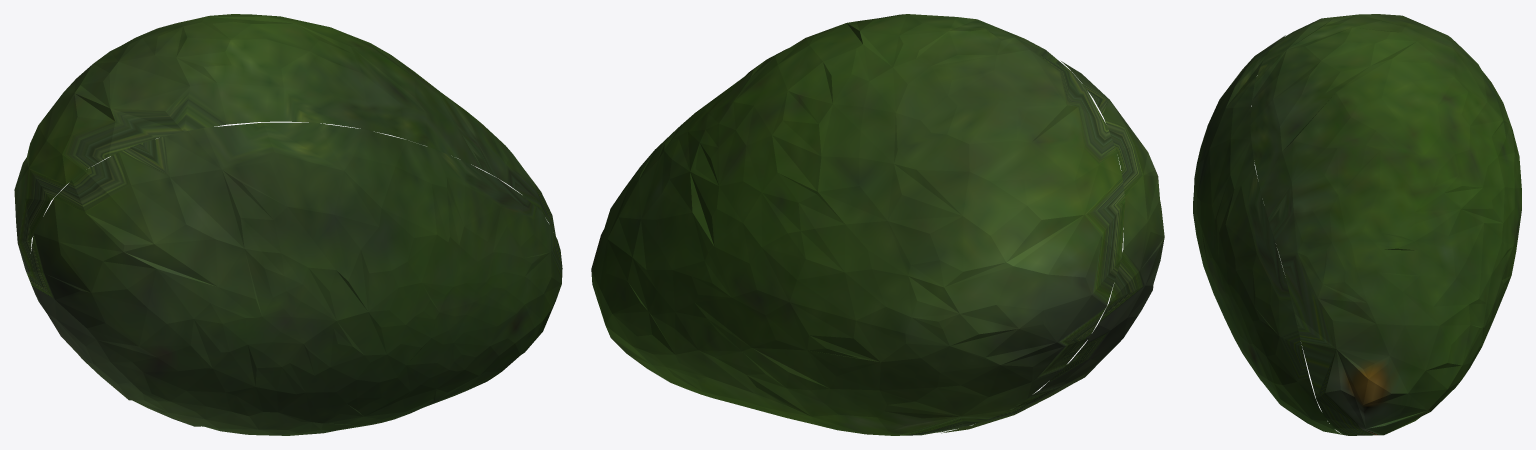
The model's file is food_produce_avocado_f01.glb.
3 views of the same model, side by side, from view 1: azimuth 30°, elevation 25°; view 2: azimuth 150°, elevation 25°; view 3: azimuth 270°, elevation 25° (orthographic). The views are drawn at different scales.
Visible parts, largest first — view 1: geometry_0; view 2: geometry_0; view 3: geometry_0.
Boxes of the visible parts, <box> form: geometry_0: <box>14,14,562,435</box>; geometry_0: <box>591,14,1164,435</box>; geometry_0: <box>1193,14,1521,435</box>.
Bounding box in the file's own units: 0.42 × 0.3065 × 0.2867.
1 material, 1 textured.
